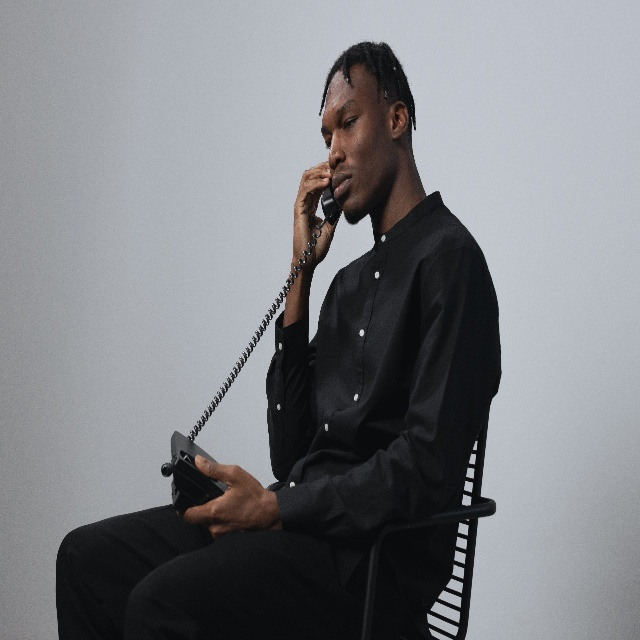Sin_guantes: (184, 454, 279, 540), (293, 160, 340, 269)
